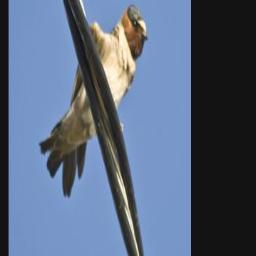Swallow: (39, 1, 150, 200)
